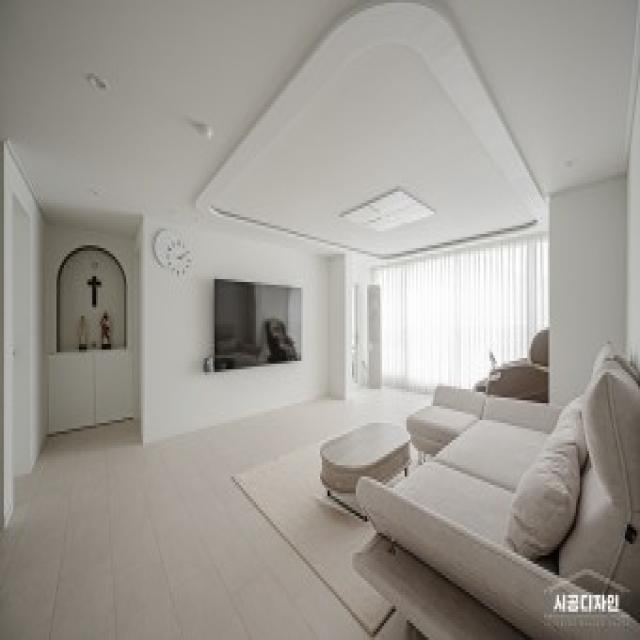Sofa: (354, 372, 638, 640)
Table: (310, 414, 409, 515)
tv: (214, 278, 303, 368)
window: (374, 261, 534, 360)
